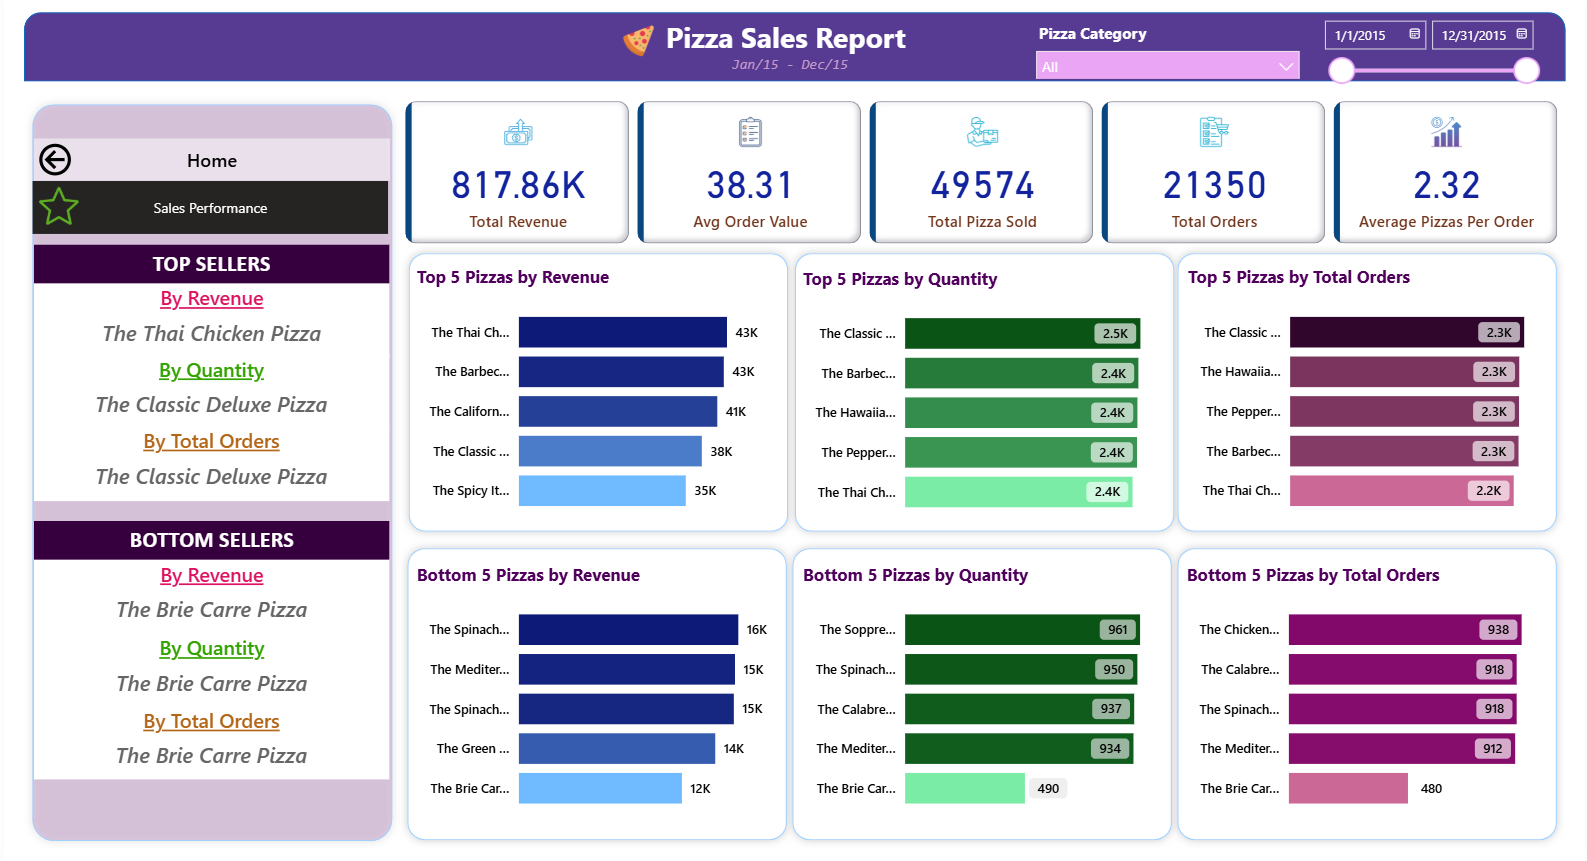

Layout of this report page (visuals, bound fields, positions):
{"tool":"powerbi","page":{"name":"Sales Performance","canvas":[1500,820],"ordinal":1},"visuals":[{"type":"shape","box":[18.6,94.3,357.1,714.3],"z":0},{"type":"cardVisual","fields":{"Data":["pizza_sales.Total Revenue","pizza_sales.Avg Order Value","pizza_sales.Total Pizza Sold","pizza_sales.Total Orders","pizza_sales.Average Pizzas Per Order"]},"box":[375.7,94.3,1104.3,145.7],"z":1000},{"type":"shape","box":[18.6,15.7,1461.4,65.7],"z":2000},{"type":"textbox","box":[612.9,15.7,257.1,47.1],"z":3000},{"type":"textbox","box":[677.1,50,137.1,31.4],"z":4000},{"type":"image","box":[573.6,22.3,55.9,40.5],"z":5000},{"type":"shape","box":[375.7,235.7,375.7,280],"z":6000},{"type":"textbox","box":[28.6,235.7,337.1,37.1],"z":7000},{"type":"card","title":"By Revenue","fields":{"Values":["pizza_sales.Top Seller By Revenue"]},"box":[28.6,272.9,337.1,70],"z":8000},{"type":"slicer","fields":{"Values":["pizza_sales.pizza_category"]},"box":[968.6,20,270,58.6],"z":9000},{"type":"slicer","fields":{"Values":["pizza_sales.order_date"]},"box":[1239.3,13.5,224.9,81.2],"z":10000},{"type":"shape","box":[741.4,235.7,375.7,280],"z":11000},{"type":"shape","box":[1104.3,235.7,375.7,280],"z":12000},{"type":"shape","box":[374.3,515.7,375.7,292.9],"z":13000},{"type":"shape","box":[740,515.7,375.7,292.9],"z":14000},{"type":"shape","box":[1104.3,515.7,375.7,292.9],"z":15000},{"type":"barChart","title":"Top 5 Pizzas by Revenue","fields":{"Category":["pizza_sales.pizza_name"],"Y":["pizza_sales.Total Revenue"]},"box":[385.7,254.3,354.3,250],"z":16000},{"type":"barChart","title":"Bottom 5 Pizzas by Revenue","fields":{"Category":["pizza_sales.pizza_name"],"Y":["pizza_sales.Total Revenue"]},"box":[385.7,537.1,354.3,250],"z":17000},{"type":"barChart","title":"Top 5 Pizzas by Quantity","fields":{"Category":["pizza_sales.pizza_name"],"Y":["pizza_sales.Total Pizza Sold"]},"box":[752.9,255.7,354.3,250],"z":18000},{"type":"barChart","title":"Bottom 5 Pizzas by Quantity","fields":{"Category":["pizza_sales.pizza_name"],"Y":["pizza_sales.Total Pizza Sold"]},"box":[752.9,537.1,354.3,250],"z":19000},{"type":"barChart","title":"Top 5 Pizzas by Total Orders","fields":{"Category":["pizza_sales.pizza_name"],"Y":["pizza_sales.Total Orders"]},"box":[1117.1,254.3,354.3,250],"z":20000},{"type":"barChart","title":"Bottom 5 Pizzas by Total Orders","fields":{"Category":["pizza_sales.pizza_name"],"Y":["pizza_sales.Total Orders"]},"box":[1115.7,537.1,354.3,250],"z":21000},{"type":"card","title":"By Quantity","fields":{"Values":["pizza_sales.Top Seller By Quantity"]},"box":[28.7,339.8,336.5,69.3],"z":22000},{"type":"card","title":"By Total Orders","fields":{"Values":["pizza_sales.Top Seller By Total Orders"]},"box":[28.7,407.5,336.5,71],"z":23000},{"type":"textbox","box":[28.6,497.1,337.1,37.1],"z":24000},{"type":"card","title":"By Revenue","fields":{"Values":["pizza_sales.Bottom Seller By Revenue"]},"box":[28.6,534.3,337.1,70],"z":25000},{"type":"card","title":"By Quantity","fields":{"Values":["pizza_sales.Bottom Seller By Quantity"]},"box":[28.6,604.3,337.1,70],"z":26000},{"type":"card","title":"By Total Orders","fields":{"Values":["pizza_sales.Bottom Seller By Total Orders"]},"box":[28.7,672.9,336.5,69.3],"z":27000},{"type":"actionButton","box":[28.8,135,337.5,40],"z":28000},{"type":"pageNavigator","box":[27.5,175,337.5,50],"z":29000},{"type":"image","box":[28.1,175.6,47.8,47.8],"z":29001}]}

Visuals, with their boxes in screenshot pixels (x1, y1, x2, y2), scaled from the page's 1500x820 canvas onto the 1587x861 screenshot:
shape: [20, 99, 397, 849]
cardVisual - pizza_sales.Total Revenue x pizza_sales.Avg Order Value: [397, 99, 1566, 252]
shape: [20, 16, 1566, 85]
textbox: [648, 16, 920, 66]
textbox: [716, 52, 861, 85]
image: [607, 23, 666, 66]
shape: [397, 247, 795, 541]
textbox: [30, 247, 387, 286]
"By Revenue" card: [30, 287, 387, 360]
slicer - pizza_sales.pizza_category: [1025, 21, 1310, 83]
slicer - pizza_sales.order_date: [1311, 14, 1549, 99]
shape: [784, 247, 1182, 541]
shape: [1168, 247, 1566, 541]
shape: [396, 541, 794, 849]
shape: [783, 541, 1180, 849]
shape: [1168, 541, 1566, 849]
"Top 5 Pizzas by Revenue" barChart: [408, 267, 783, 530]
"Bottom 5 Pizzas by Revenue" barChart: [408, 564, 783, 826]
"Top 5 Pizzas by Quantity" barChart: [797, 268, 1171, 531]
"Bottom 5 Pizzas by Quantity" barChart: [797, 564, 1171, 826]
"Top 5 Pizzas by Total Orders" barChart: [1182, 267, 1557, 530]
"Bottom 5 Pizzas by Total Orders" barChart: [1180, 564, 1555, 826]
"By Quantity" card: [30, 357, 386, 430]
"By Total Orders" card: [30, 428, 386, 502]
textbox: [30, 522, 387, 561]
"By Revenue" card: [30, 561, 387, 635]
"By Quantity" card: [30, 635, 387, 708]
"By Total Orders" card: [30, 707, 386, 779]
actionButton: [30, 142, 388, 184]
pageNavigator: [29, 184, 386, 236]
image: [30, 184, 80, 235]
